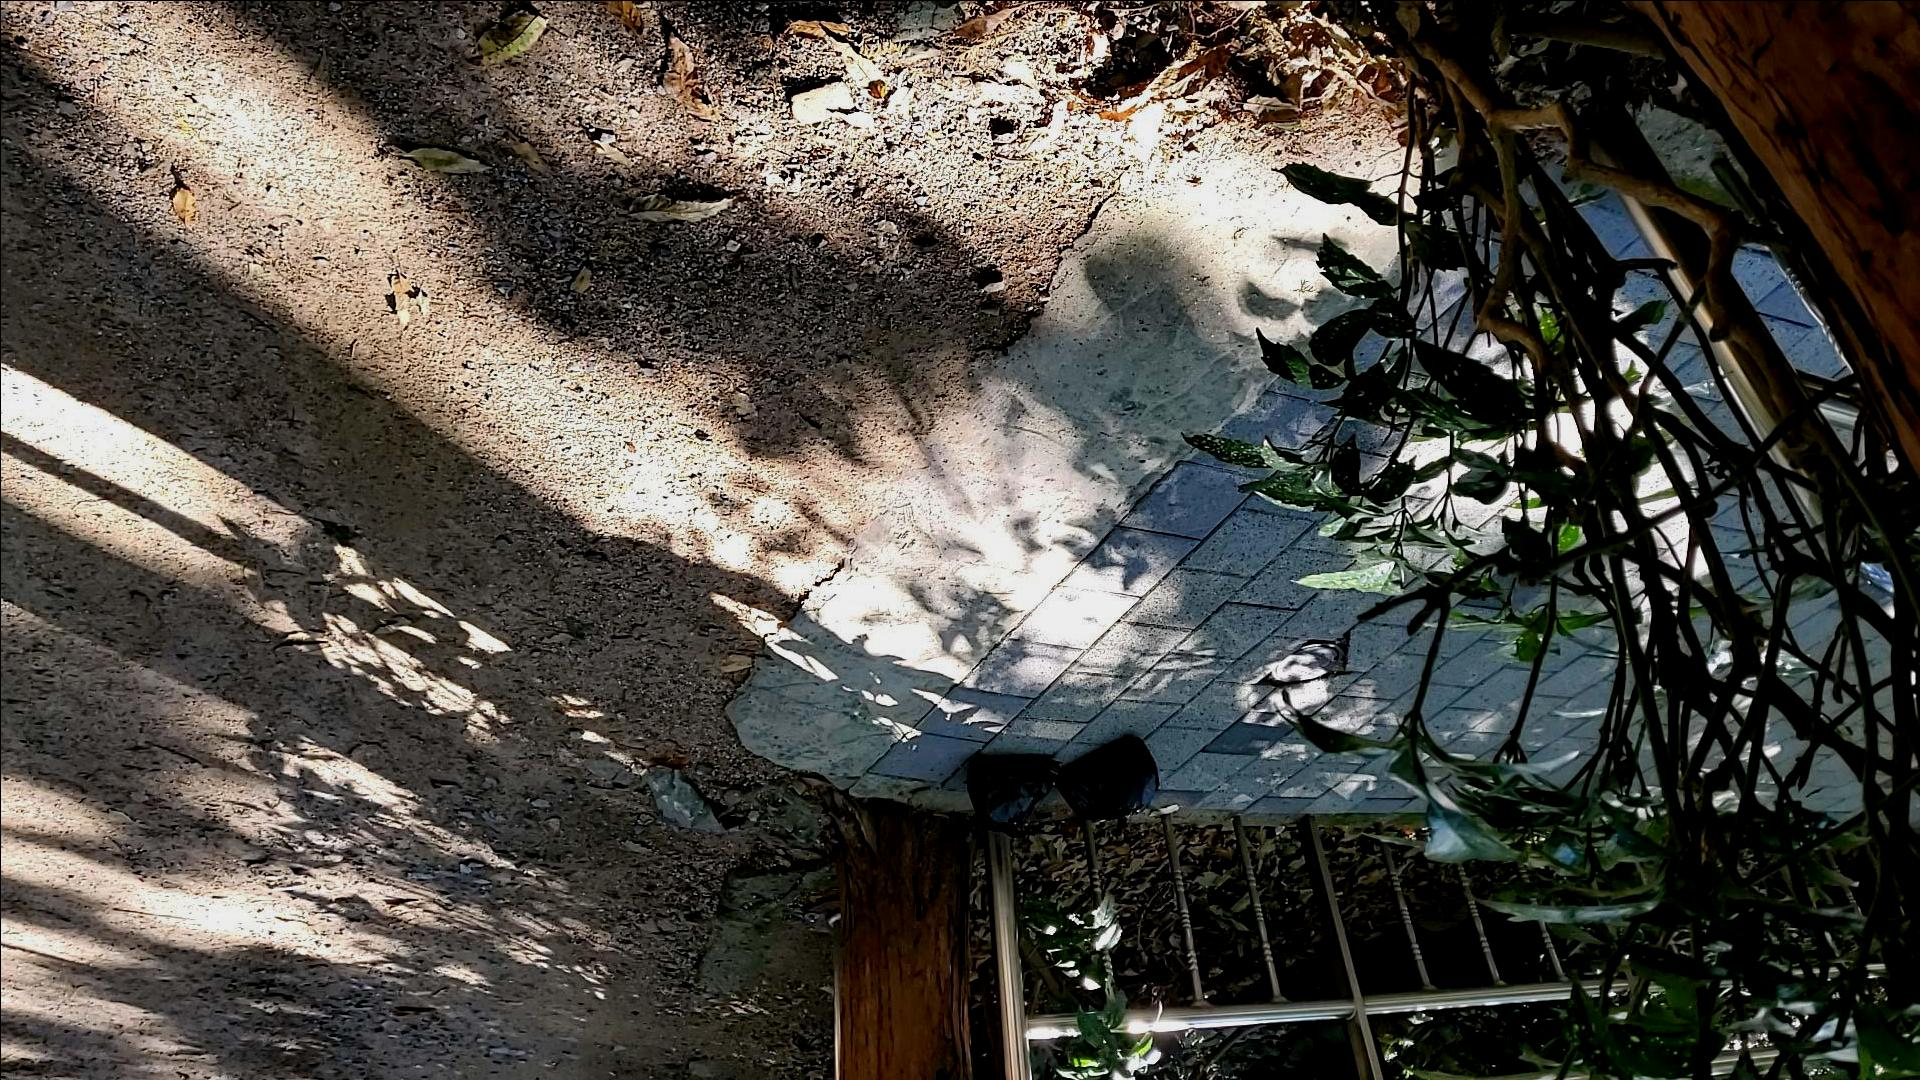black_bag: (1051, 731, 1172, 829), (957, 746, 1062, 841)
